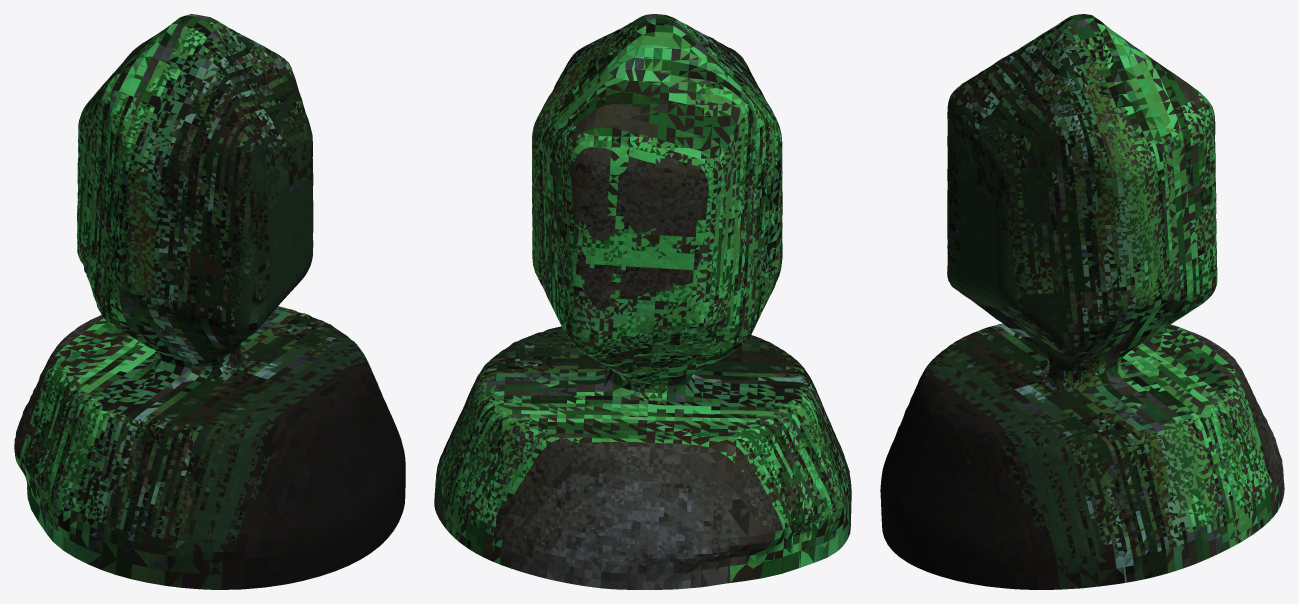
The model's file is rupia.glb.
3 renders of one model, left to right at view 1: azimuth 30°, elevation 25°; view 2: azimuth 150°, elevation 25°; view 3: azimuth 270°, elevation 25°, orthographic. The views are drawn at different scales.
Parts seen in each view (by area): view 1: rupiaColor; view 2: rupiaColor; view 3: rupiaColor.
Part boxes in pixels (x1,y1,x2,y2): rupiaColor: [14, 14, 405, 589]; rupiaColor: [434, 14, 851, 589]; rupiaColor: [880, 14, 1284, 589].
Size of the model in its own units: 2.78 by 3.85 by 2.83.
